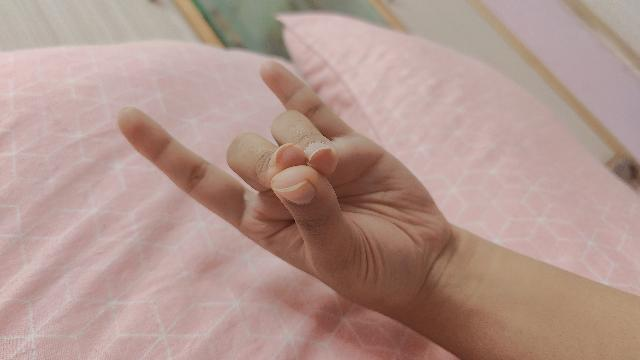sinhamukh: (115, 63, 640, 360)
